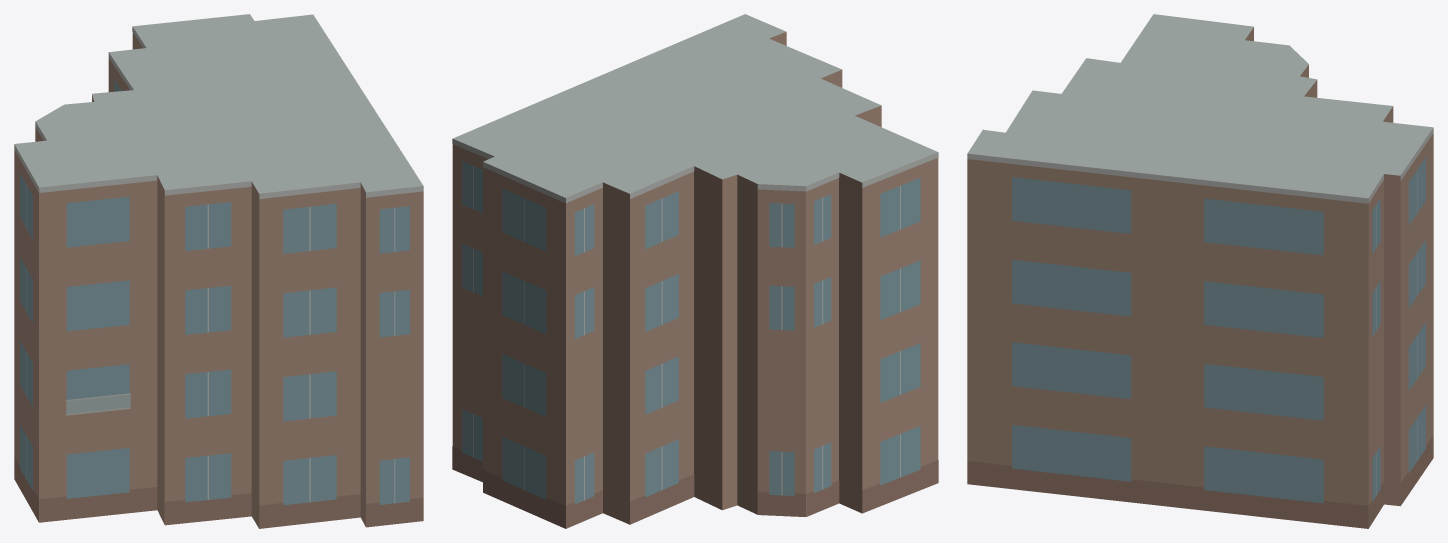
Rendered from survey-upis-32682024.glb.
The picture shows the model from 3 angles, left to right: view 1: azimuth 30°, elevation 25°; view 2: azimuth 150°, elevation 25°; view 3: azimuth 270°, elevation 25°; orthographic projection.
Visible parts, largest first — view 1: survey-upis-32682024.tmp; view 2: survey-upis-32682024.tmp; view 3: survey-upis-32682024.tmp.
Part boxes in pixels (left/top/right/bottom): survey-upis-32682024.tmp: left=14, top=14, right=423, bottom=528; survey-upis-32682024.tmp: left=452, top=14, right=938, bottom=528; survey-upis-32682024.tmp: left=967, top=14, right=1433, bottom=528.
Size of the model in its own units: 18.08 by 15.1 by 19.32.
